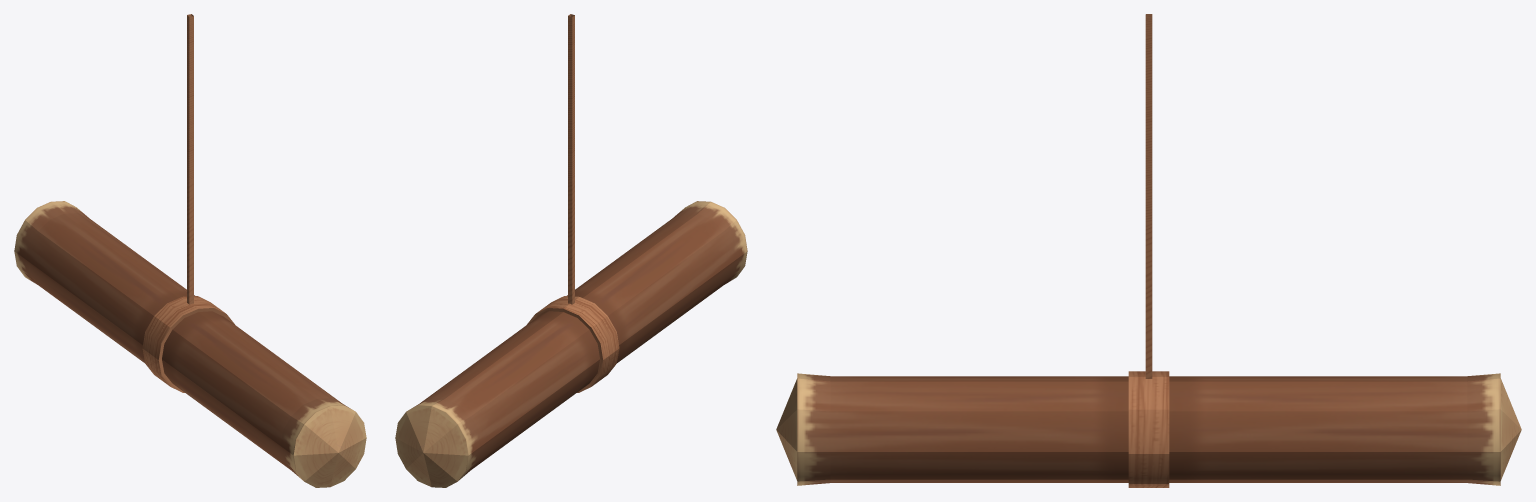
Rendered from TroncoCompleto (Version Cuerda Corta).fbx.
3 renders of one model, left to right at view 1: azimuth 30°, elevation 25°; view 2: azimuth 150°, elevation 25°; view 3: azimuth 270°, elevation 25°, orthographic. The views are drawn at different scales.
Parts seen in each view (by area): view 1: Tronco; view 2: Tronco; view 3: Tronco.
Part boxes in pixels (x1,y1,x2,y2): Tronco: (14,14,366,487); Tronco: (395,14,747,487); Tronco: (776,14,1521,487).
Size of the model in its own units: 218 by 970 by 1405.
